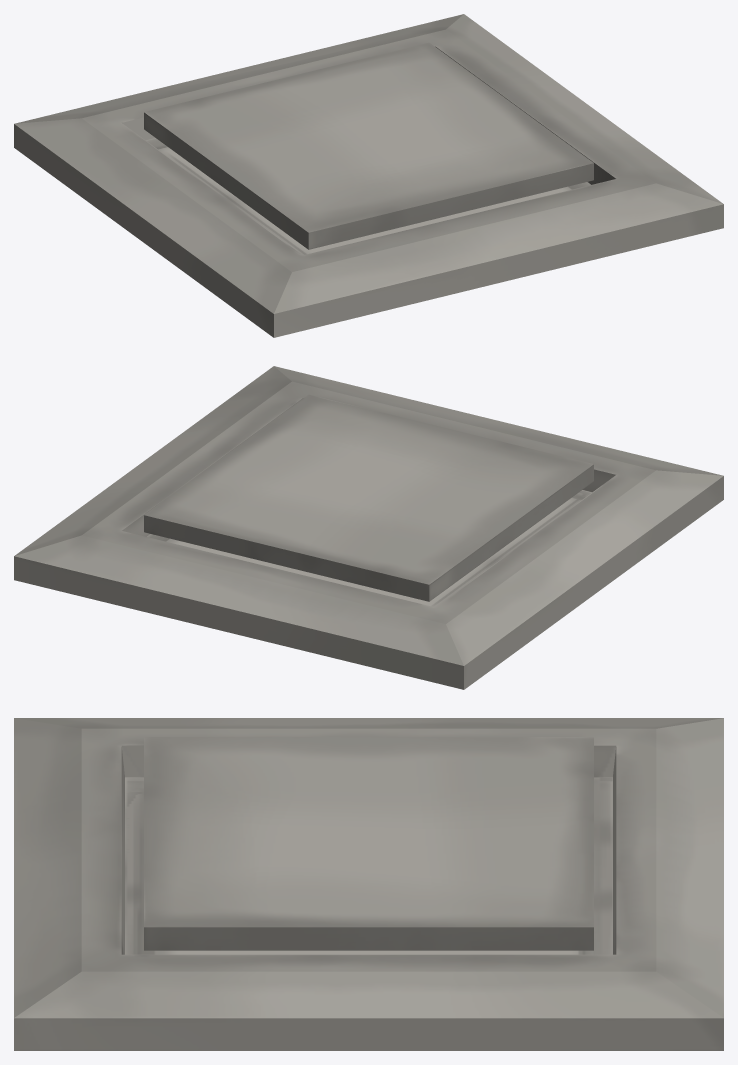
File: pressure_plate.fbx
The picture shows the model from 3 angles, top to bottom: view 1: azimuth 30°, elevation 25°; view 2: azimuth 150°, elevation 25°; view 3: azimuth 270°, elevation 25°; orthographic projection. The views are drawn at different scales.
Visible parts, largest first — view 1: pressure_plate_base, pressure_plate_plate; view 2: pressure_plate_base, pressure_plate_plate; view 3: pressure_plate_base, pressure_plate_plate.
Boxes of the visible parts, <box> form: pressure_plate_base: <box>14,14,723,337</box>; pressure_plate_plate: <box>144,42,593,249</box>; pressure_plate_base: <box>14,366,723,689</box>; pressure_plate_plate: <box>144,394,593,601</box>; pressure_plate_base: <box>14,718,723,1050</box>; pressure_plate_plate: <box>144,737,593,950</box>.
Size of the model in its own units: 160 by 160 by 17.09.
